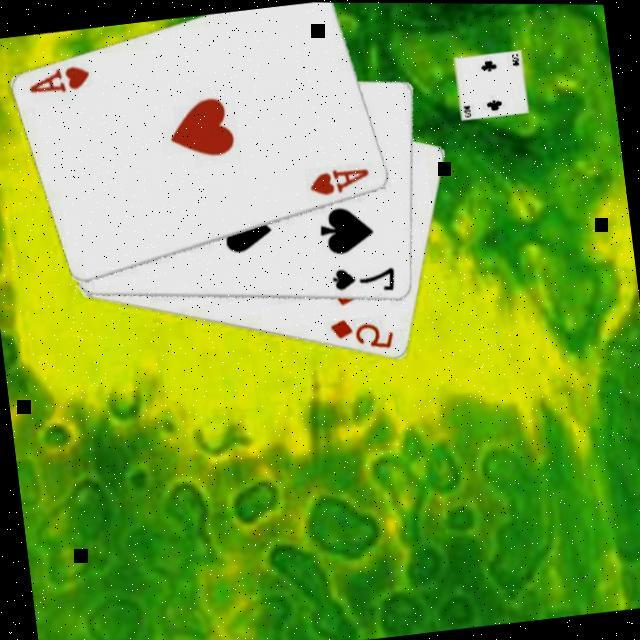5D: (326, 308, 398, 356)
7S: (328, 256, 401, 298)
AH: (24, 58, 96, 98), (305, 158, 374, 198)
